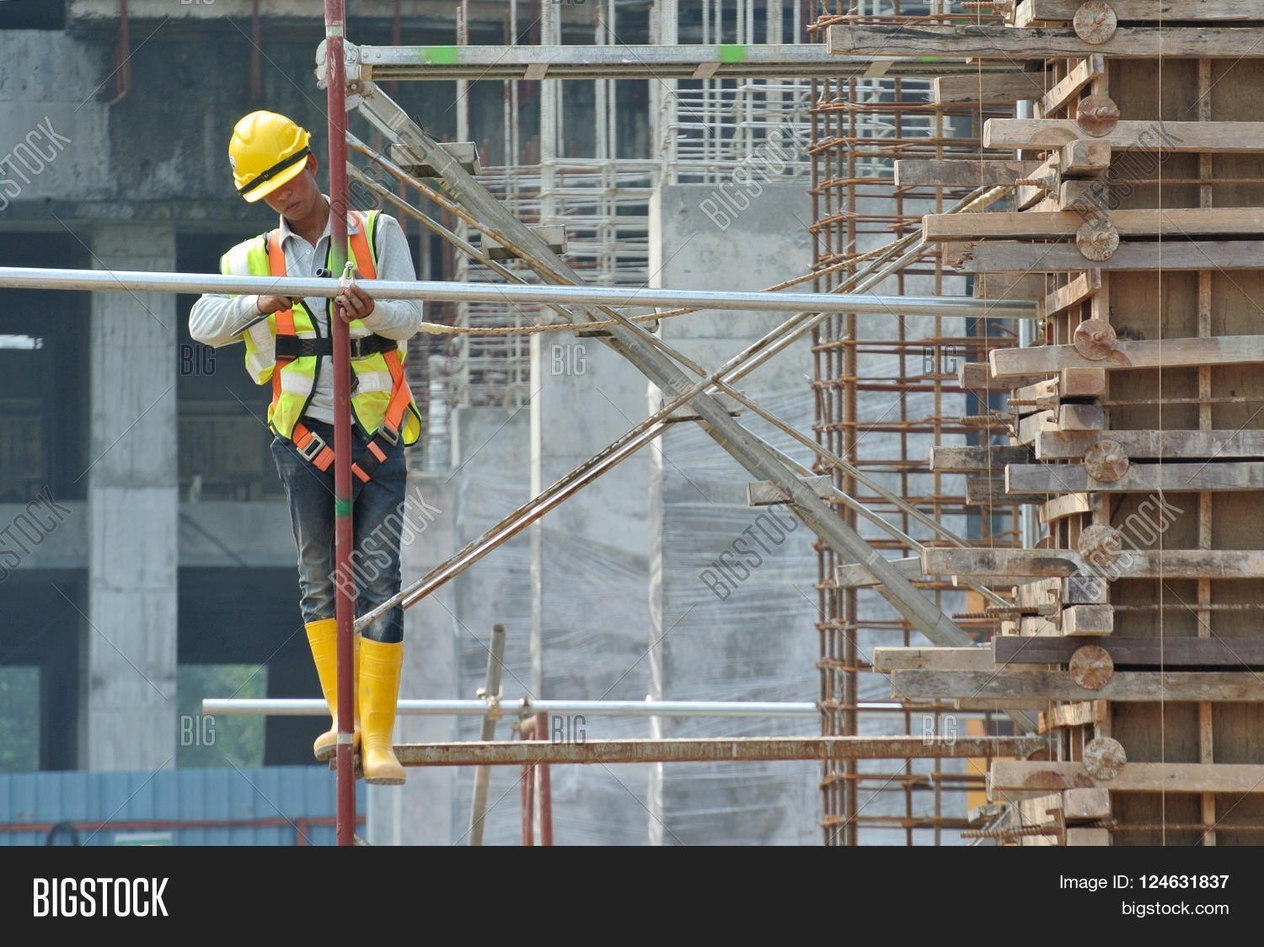Helmet: (220, 111, 313, 200)
Person: (207, 104, 426, 799)
Safety_Harness: (242, 229, 420, 478)
Safety_shoes: (354, 630, 423, 789), (303, 616, 357, 766)
